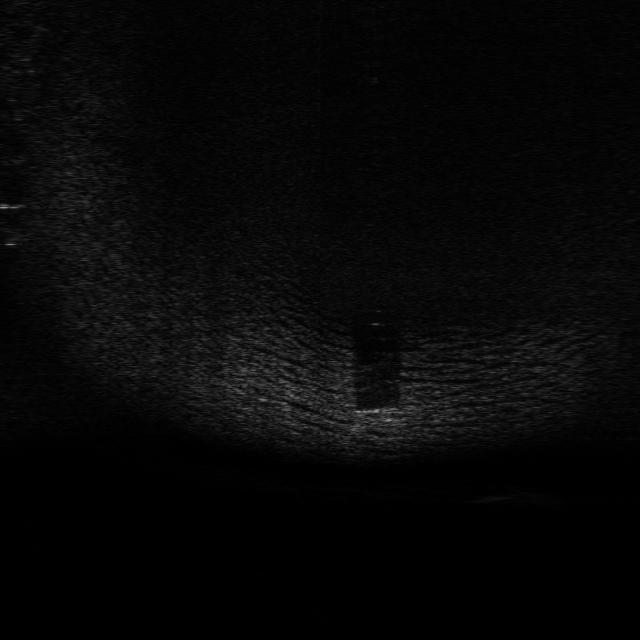cube: (350, 406, 406, 434)
